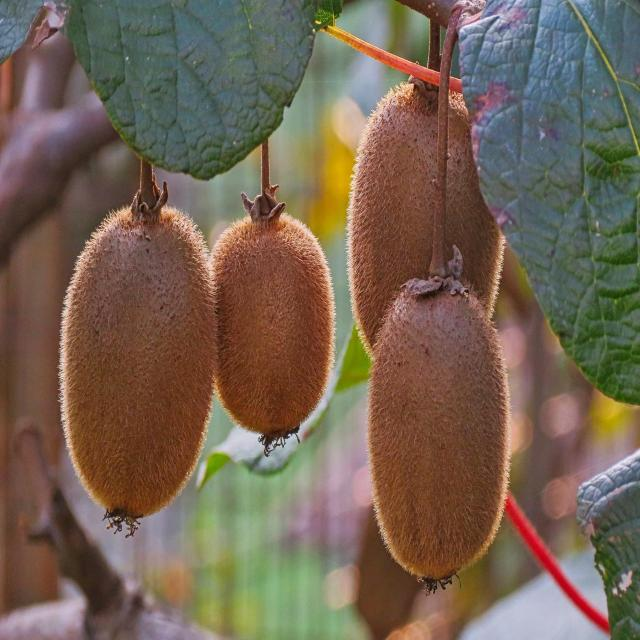kiwi: (60, 194, 221, 550), (369, 260, 515, 596), (351, 63, 512, 362), (209, 210, 345, 449)
